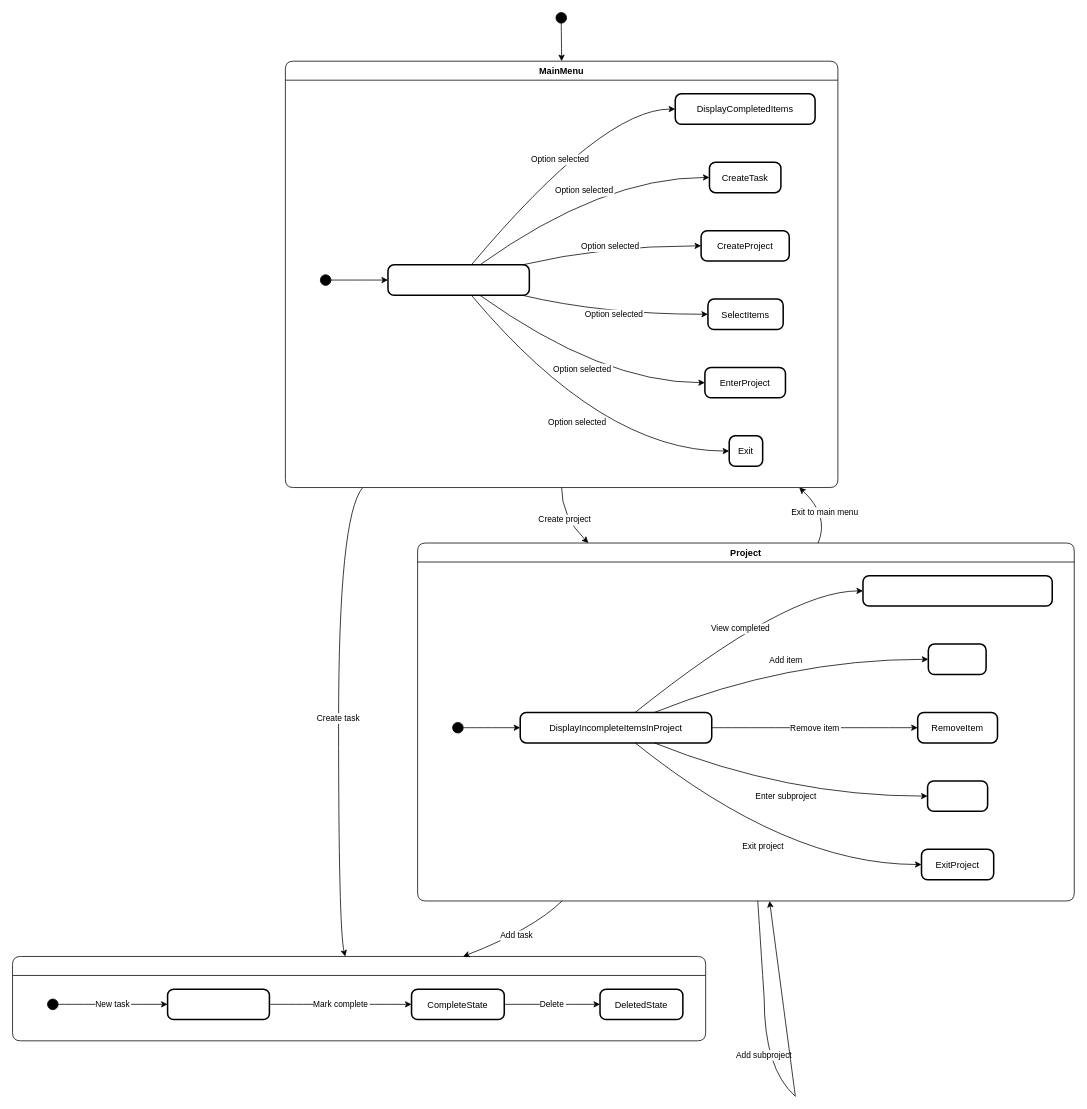
This 1087x1109 diagram has some shape labels left out. Here are the shapes that lost their labels. From the top down, the box of each, then its label:
(387, 264, 530, 296): DisplayIncompleteItems
(862, 575, 1053, 606): DisplayCompletedItemsInProject
(927, 643, 986, 675): AddItem
(926, 780, 988, 812): Navigate
(166, 988, 270, 1020): IncompleteState
(12, 956, 706, 1041): Task
